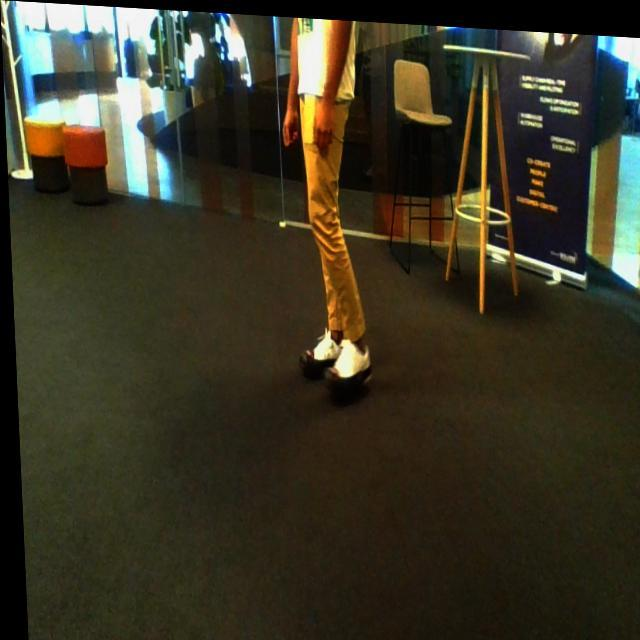shoes: (314, 338, 384, 390), (293, 326, 343, 377)
